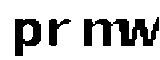m: (80, 15, 128, 50)
p: (13, 16, 44, 60)
r: (46, 17, 72, 48)
w: (118, 14, 160, 50)
